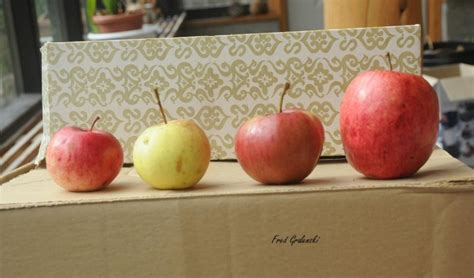apple: (337, 66, 443, 183), (233, 106, 326, 189), (129, 116, 212, 194), (42, 122, 126, 195)
